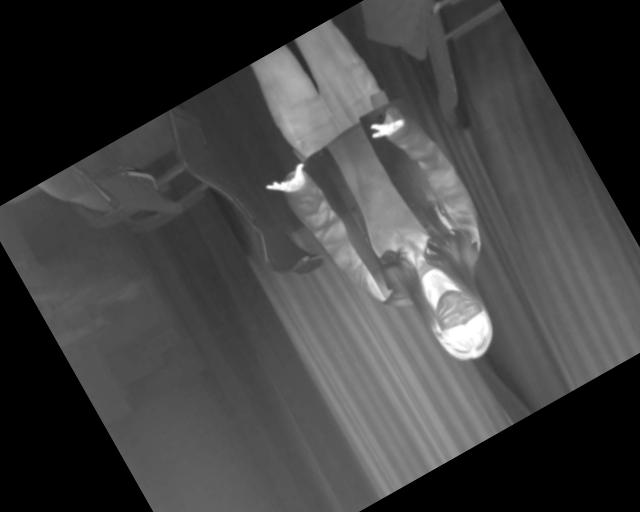face: (417, 277, 504, 371)
